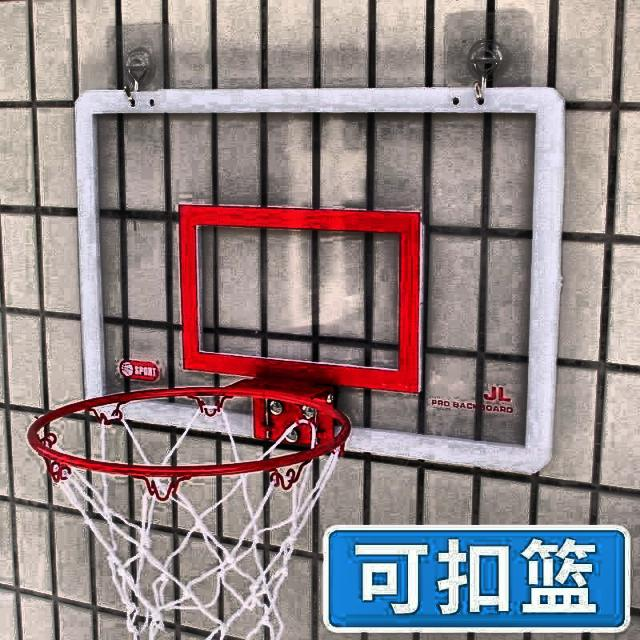rim: (23, 388, 344, 640)
